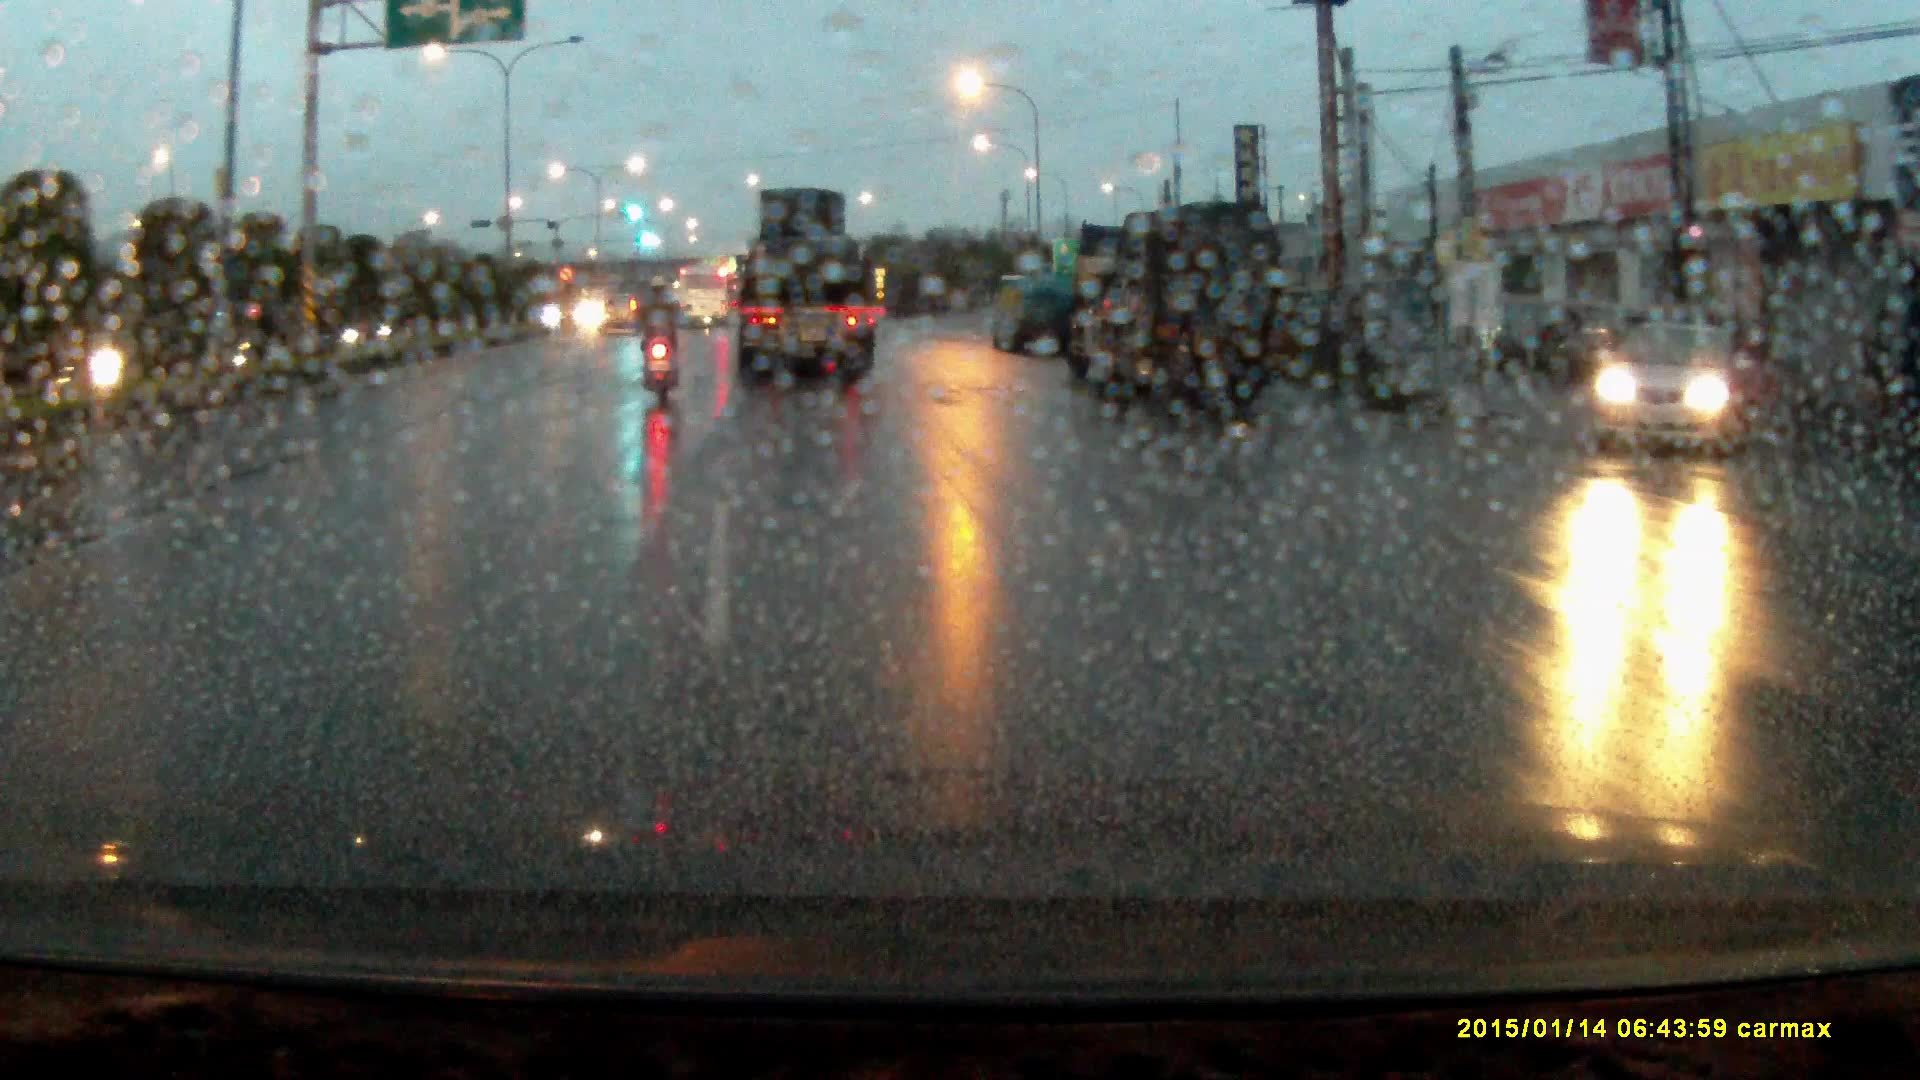rider: (637, 271, 694, 408)
vehicle: (1070, 196, 1299, 414), (740, 188, 877, 382), (1591, 327, 1760, 460), (995, 272, 1082, 355), (682, 266, 731, 329), (596, 287, 649, 336)
